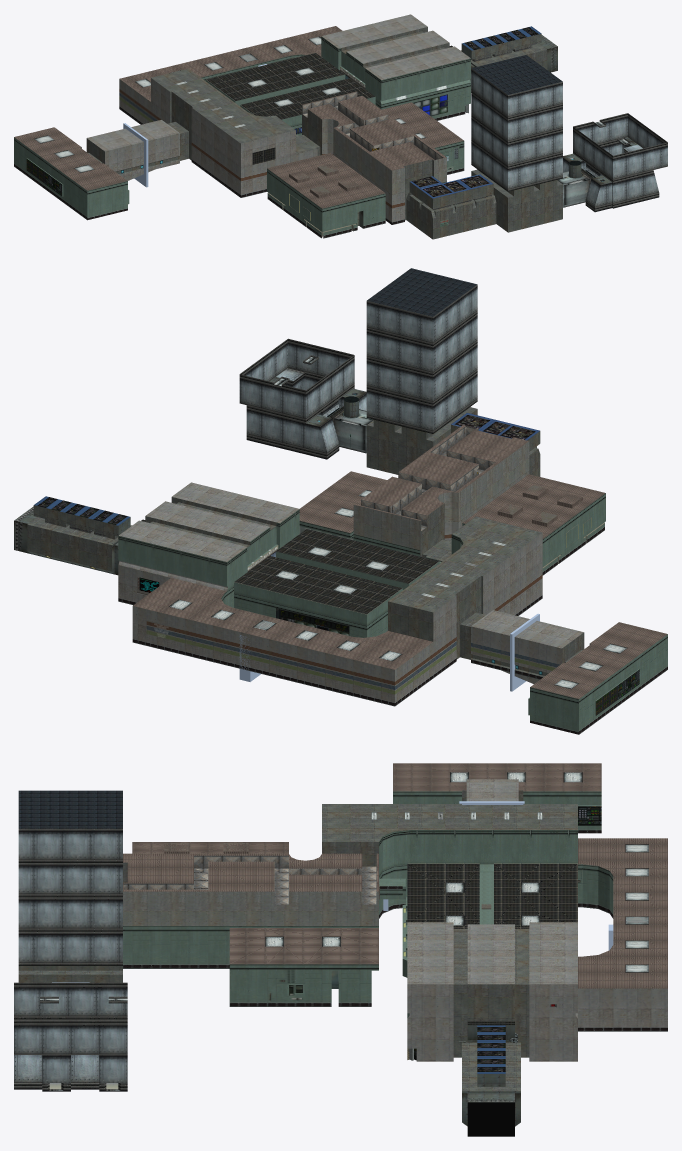
3 views of the same model, one above another, from view 1: azimuth 30°, elevation 25°; view 2: azimuth 150°, elevation 25°; view 3: azimuth 270°, elevation 25° (orthographic). The views are drawn at different scales.
Parts seen in each view (by area): view 1: world_geometry.001, world_geometry.035, world_geometry.065, world_geometry.002, world_geometry.072, world_geometry.009, world_geometry.029, world_geometry.064, world_geometry.017, world_geometry.076, world_geometry.031, world_geometry.089 (+9 smaller); view 2: world_geometry.035, world_geometry.065, world_geometry.001, world_geometry.002, world_geometry.042, world_geometry.072, world_geometry.064, world_geometry.017, world_geometry.076, world_geometry.009, world_geometry.031, world_geometry.003 (+10 smaller); view 3: world_geometry.065, world_geometry.035, world_geometry.002, world_geometry.001, world_geometry.017, world_geometry.072, world_geometry.076, world_geometry.064, world_geometry.009, world_geometry.031, world_geometry.032, world_geometry.089 (+7 smaller).
Part boxes in pixels (box(x1,y1,x2,y2)): world_geometry.001: box(81, 27, 562, 239); world_geometry.035: box(471, 68, 667, 212); world_geometry.065: box(14, 26, 463, 208); world_geometry.002: box(87, 14, 470, 180); world_geometry.072: box(206, 53, 375, 164); world_geometry.009: box(62, 67, 385, 238); world_geometry.029: box(191, 132, 404, 224); world_geometry.064: box(205, 36, 470, 126); world_geometry.017: box(14, 54, 470, 219); world_geometry.076: box(322, 119, 446, 194); world_geometry.031: box(471, 55, 562, 94); world_geometry.089: box(302, 92, 443, 159); world_geometry.035: box(239, 284, 477, 459); world_geometry.065: box(133, 425, 667, 698); world_geometry.001: box(27, 407, 591, 676); world_geometry.002: box(118, 482, 583, 648); world_geometry.042: box(146, 609, 456, 706); world_geometry.072: box(234, 529, 439, 614); world_geometry.064: box(118, 509, 463, 625); world_geometry.017: box(221, 521, 667, 734); world_geometry.076: box(353, 441, 529, 549); world_geometry.009: box(350, 493, 605, 734); world_geometry.031: box(367, 268, 476, 316); world_geometry.003: box(471, 626, 561, 683); world_geometry.065: box(123, 763, 667, 988); world_geometry.035: box(14, 828, 127, 1091); world_geometry.002: box(407, 779, 577, 1061); world_geometry.001: box(18, 790, 577, 1091); world_geometry.017: box(123, 864, 613, 1006); world_geometry.072: box(407, 863, 577, 928); world_geometry.076: box(123, 891, 378, 925); world_geometry.064: box(379, 830, 577, 875); world_geometry.009: box(229, 791, 601, 1006); world_geometry.031: box(18, 790, 122, 828); world_geometry.032: box(578, 988, 667, 1031); world_geometry.089: box(123, 855, 376, 904).
Bounding box in the file's own units: 52.5 × 15.68 × 42.06.
Materials: 132 (131 with a texture image).
